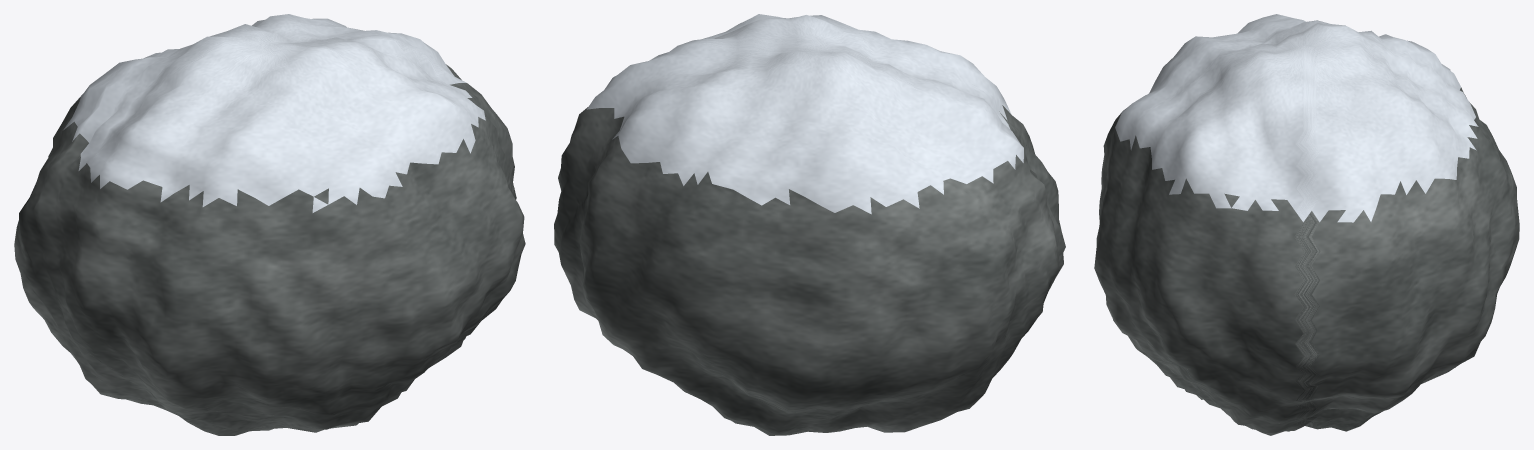
The model's file is boulder.obj.
3 renders of one model, left to right at view 1: azimuth 30°, elevation 25°; view 2: azimuth 150°, elevation 25°; view 3: azimuth 270°, elevation 25°, orthographic. The views are drawn at different scales.
Bounding box in the file's own units: 2.41 × 1.89 × 2.03.
2 materials, 2 textured.
